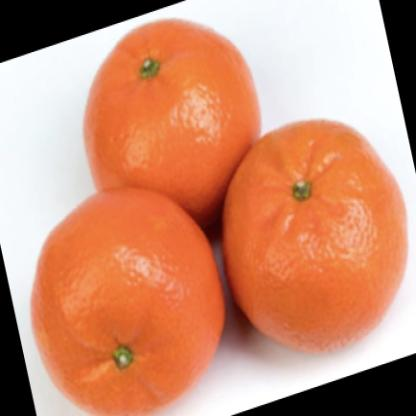fresh: (35, 19, 405, 412)
